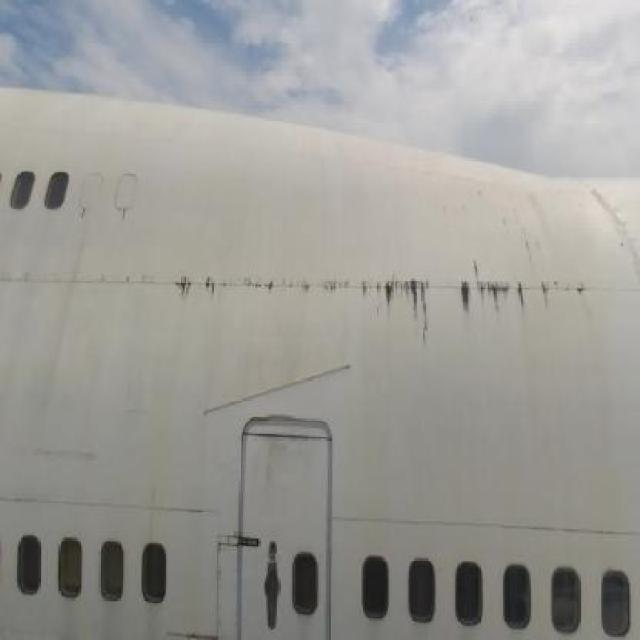Missing-Rivet: (214, 543, 223, 635)
Rust: (170, 259, 604, 356), (497, 200, 565, 274), (121, 205, 130, 227), (78, 205, 88, 222)
Scartch: (7, 432, 118, 488), (262, 436, 322, 513), (592, 191, 640, 272)
